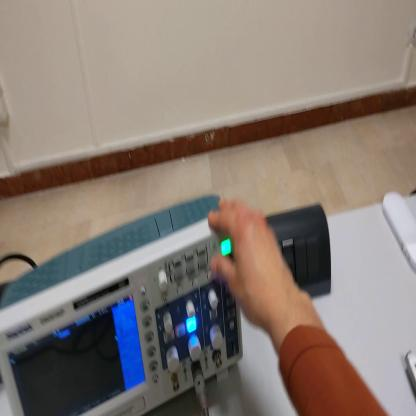hand: (203, 196, 303, 334)
oscilloscope: (2, 187, 245, 415)
